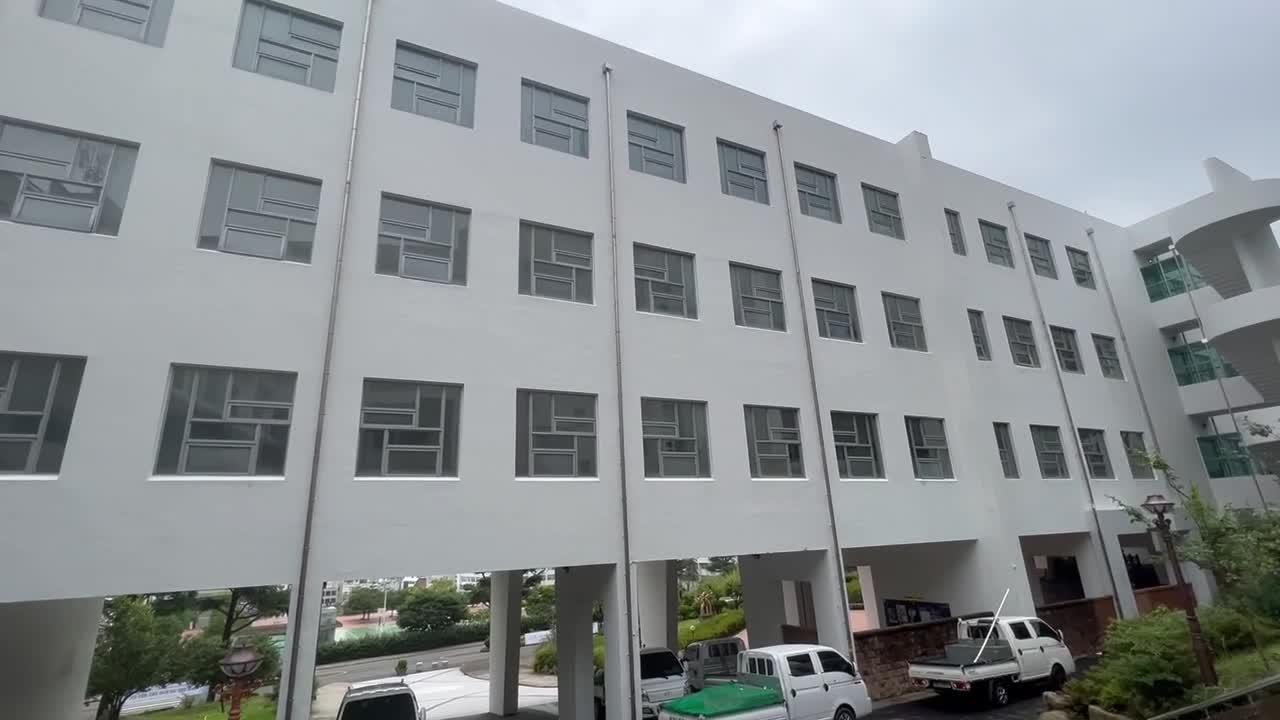building: (0, 24, 1159, 532)
